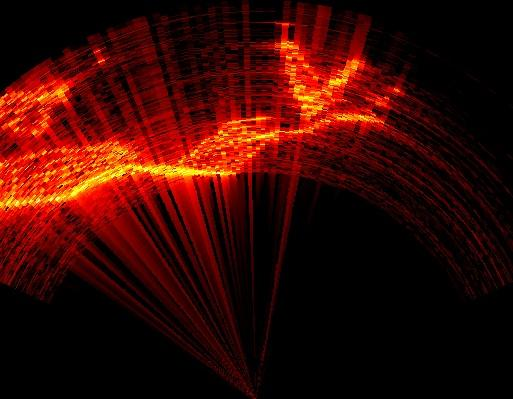shipwreck: (0, 37, 391, 208), (0, 83, 72, 135)
